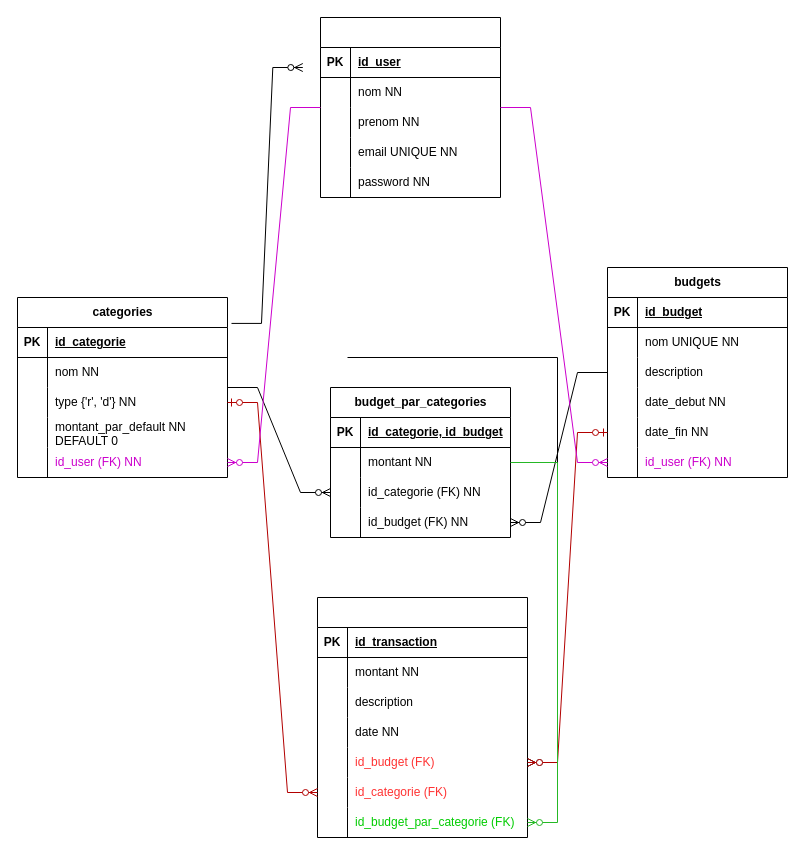
The diagram is 805 pixels wide and 855 high, and some of its shapes have lost their labels. The shapes that lost their labels are listed below. From the top down, each one's box as (x1, y1, x2, y2) in pixels, then its label:
(320, 16, 500, 198): users
(316, 596, 528, 838): transactions
